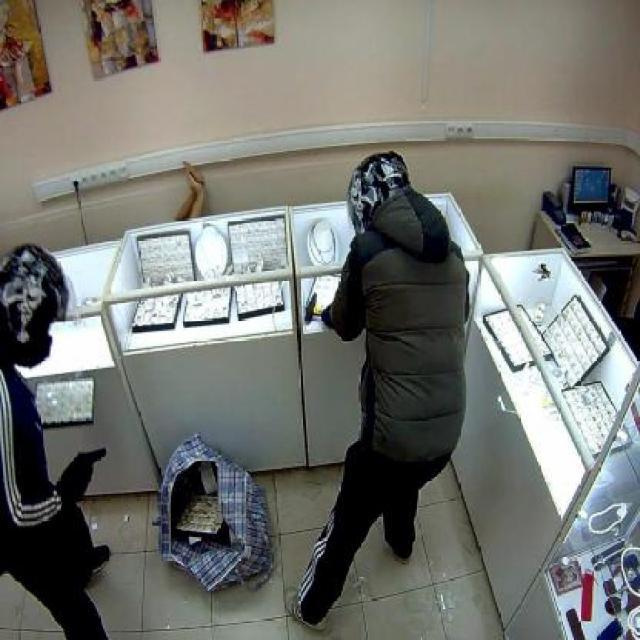weapon: (60, 444, 114, 498)
